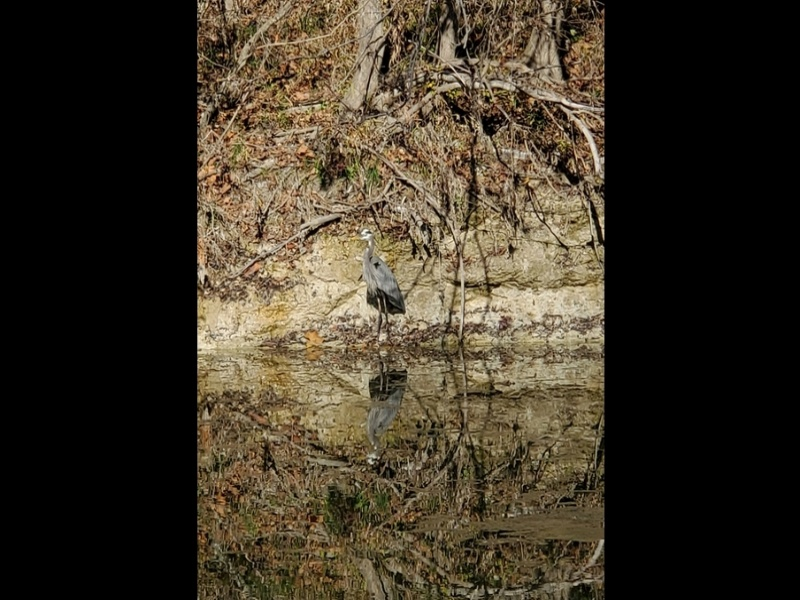heron: (340, 227, 407, 341)
